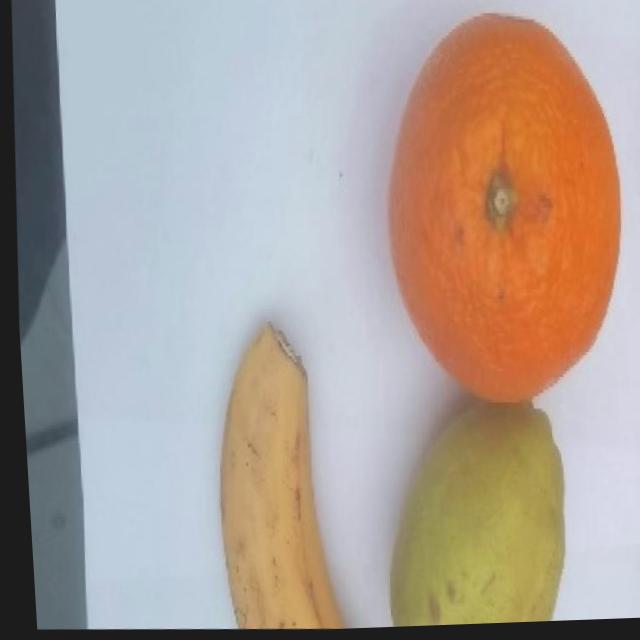Banana: (200, 320, 352, 635)
Orange: (369, 10, 635, 415)
